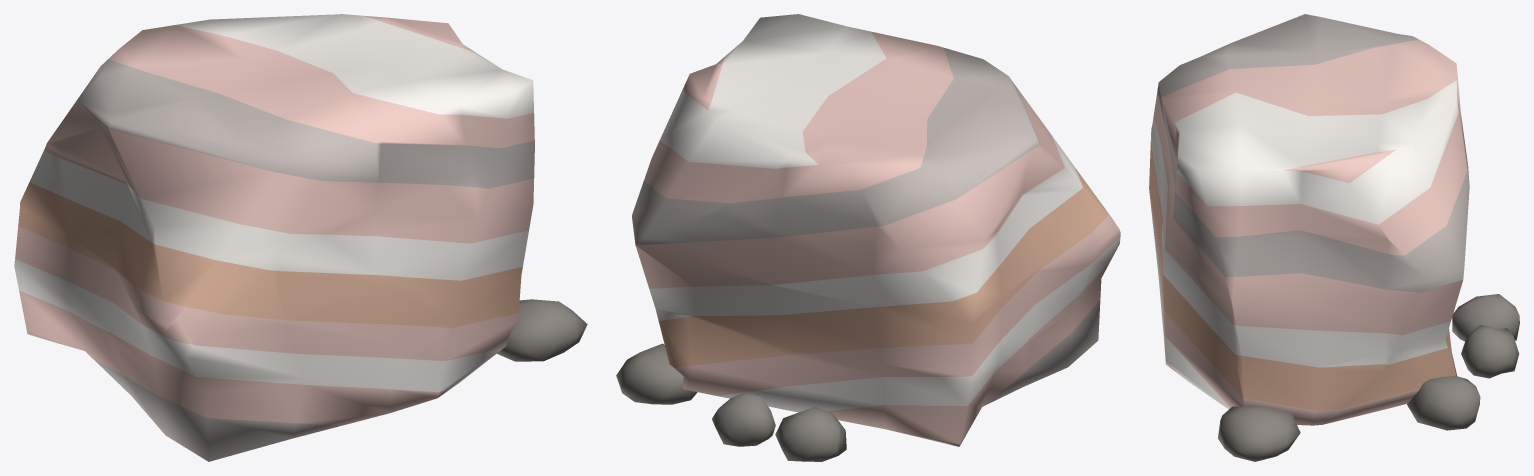
The model's file is RockSaltReal_Layered_Node.fbx.
3 renders of one model, left to right at view 1: azimuth 30°, elevation 25°; view 2: azimuth 150°, elevation 25°; view 3: azimuth 270°, elevation 25°, orthographic. The views are drawn at different scales.
Visible parts, largest first — view 1: RockSaltReal_Layered_Node; view 2: RockSaltReal_Layered_Node; view 3: RockSaltReal_Layered_Node.
Part boxes in pixels (box(x1,y1,x2,y2)): RockSaltReal_Layered_Node: box(14, 14, 587, 461); RockSaltReal_Layered_Node: box(616, 14, 1120, 461); RockSaltReal_Layered_Node: box(1149, 14, 1519, 461).
Bounding box in the file's own units: 1.24 × 0.8012 × 0.9883.
